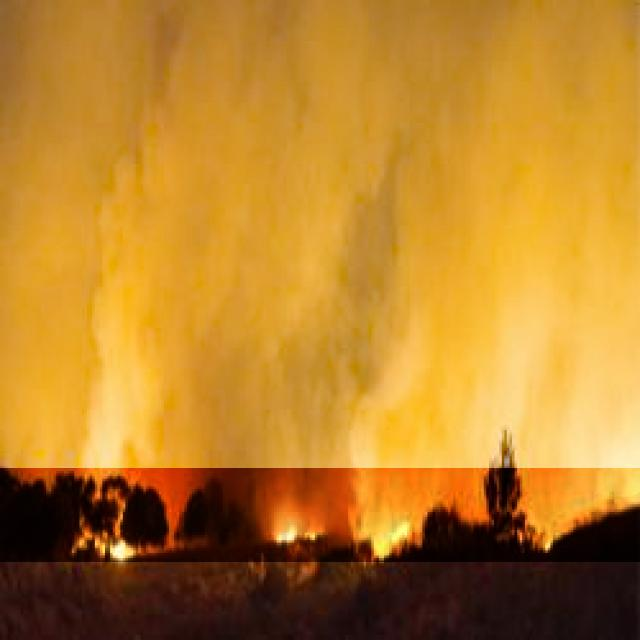Fire: (0, 441, 640, 562)
Smoke: (0, 0, 640, 468)
